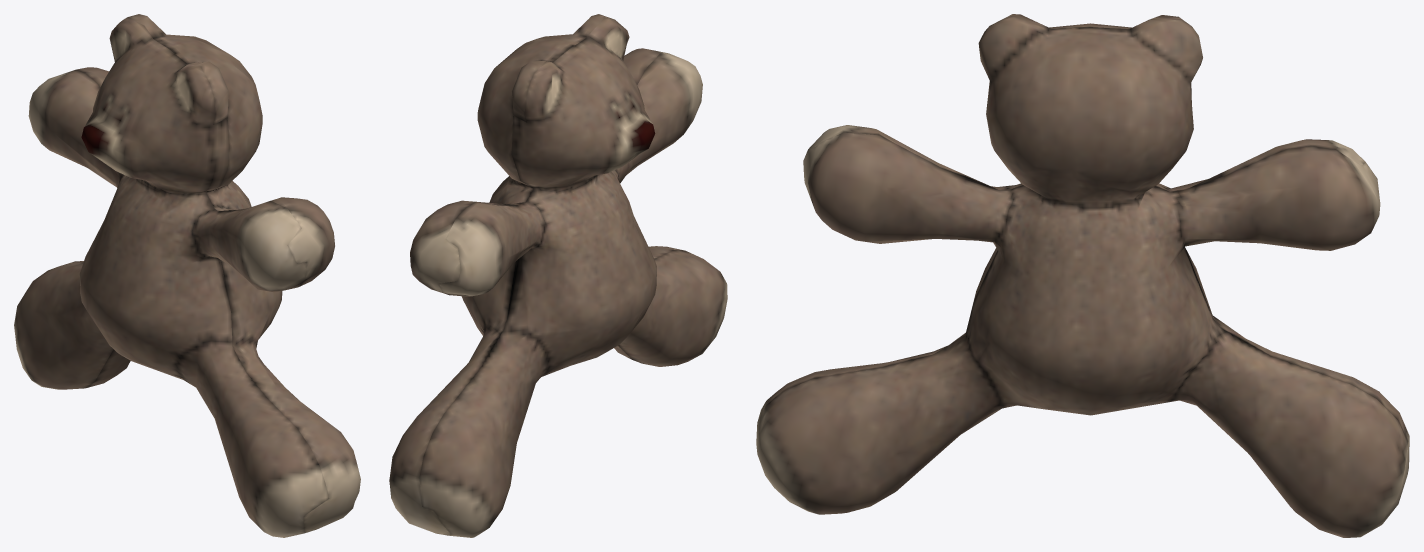
File: hw_pop_teddy.glb
3 renders of one model, left to right at view 1: azimuth 30°, elevation 25°; view 2: azimuth 150°, elevation 25°; view 3: azimuth 270°, elevation 25°, orthographic. The views are drawn at different scales.
Parts seen in each view (by area): view 1: Cube_Teddy bear_0; view 2: Cube_Teddy bear_0; view 3: Cube_Teddy bear_0.
Boxes of the visible parts, x1=… form: Cube_Teddy bear_0: x1=14, y1=14, x2=360, y2=537; Cube_Teddy bear_0: x1=389, y1=14, x2=727, y2=537; Cube_Teddy bear_0: x1=756, y1=14, x2=1409, y2=537.
Size of the model in its own units: 343 by 774 by 918.
1 material, 1 textured.
